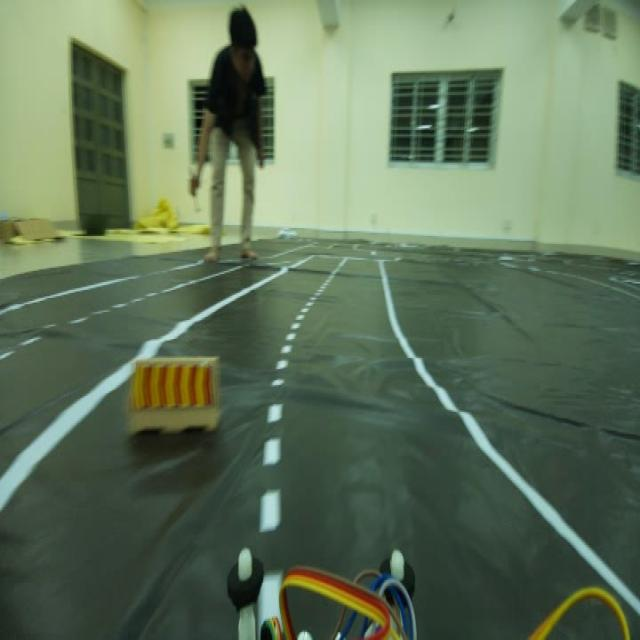roadblock: (117, 342, 238, 440)
